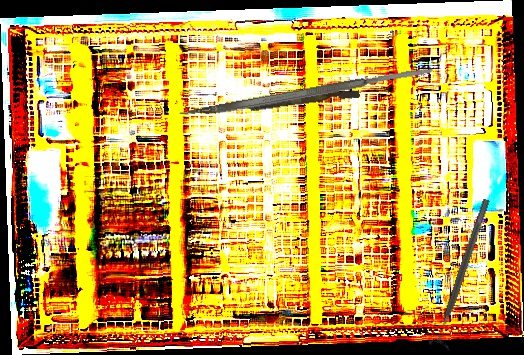Fixation Ring: (426, 195, 499, 352)
Pusher: (179, 85, 360, 123)
Spatula Surgical: (213, 64, 436, 116)
